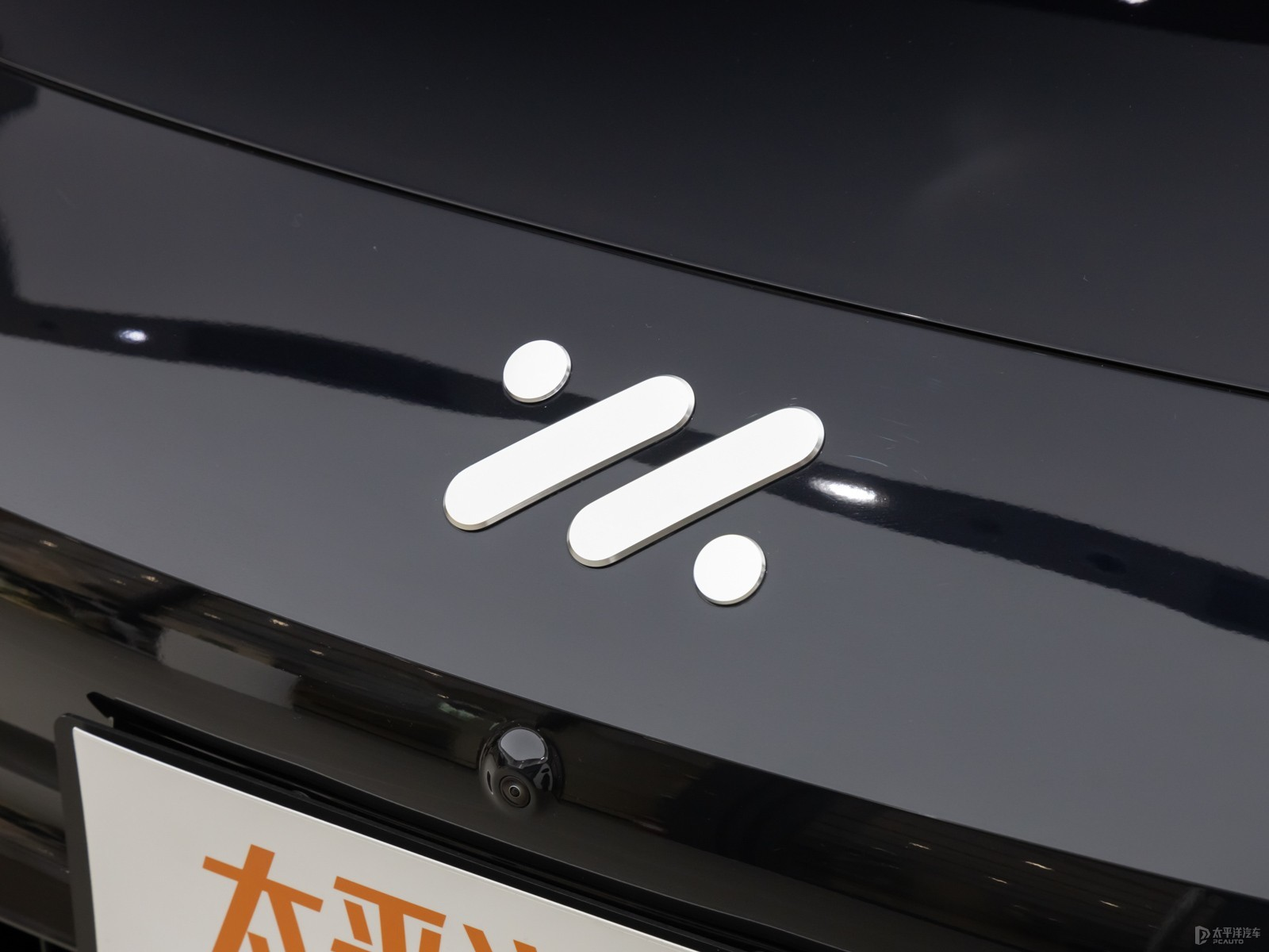IM: (444, 340, 824, 605)
